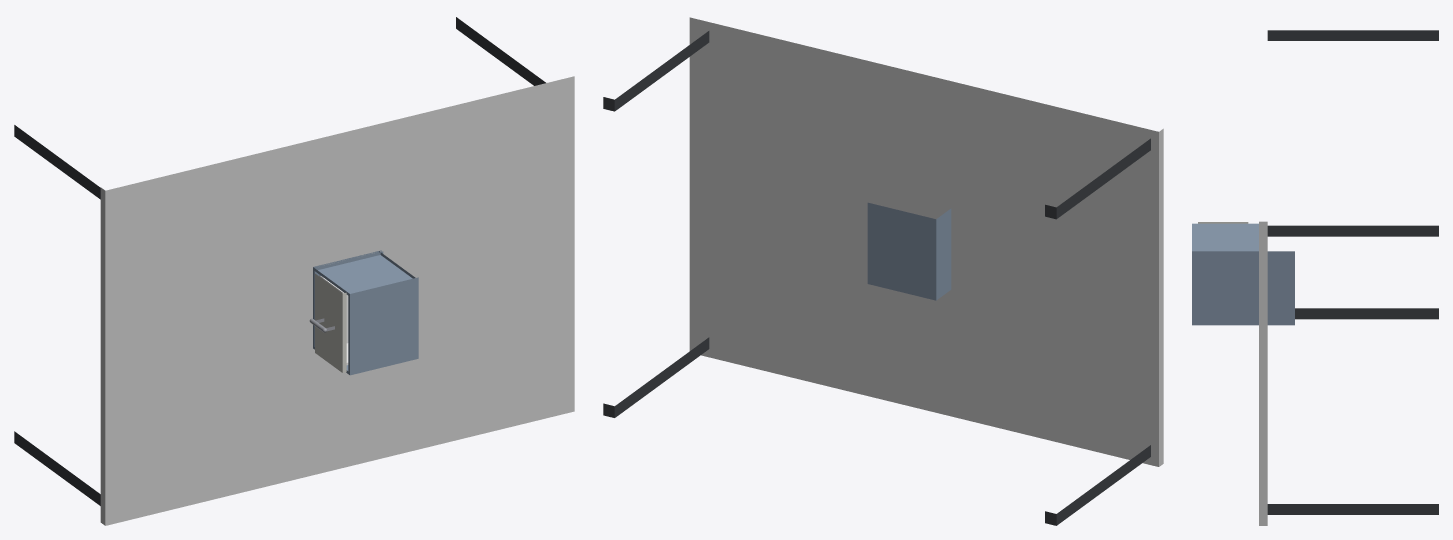
File: t2_6ff724bfa3.glb
3 renders of one model, left to right at view 1: azimuth 30°, elevation 25°; view 2: azimuth 150°, elevation 25°; view 3: azimuth 270°, elevation 25°, orthographic. The views are drawn at different scales.
Visible parts, largest first — view 1: s0, s1, s2; view 2: s0, s1; view 3: s0, s1.
Part boxes in pixels (bbox=[...]): s0: bbox=[14, 17, 574, 525]; s1: bbox=[313, 250, 418, 375]; s2: bbox=[309, 273, 348, 372]; s0: bbox=[603, 17, 1163, 525]; s1: bbox=[867, 202, 951, 300]; s0: bbox=[1259, 30, 1438, 525]; s1: bbox=[1192, 223, 1294, 325].
Bounding box in the file's own units: 2.05 × 1.4 × 1.03.
